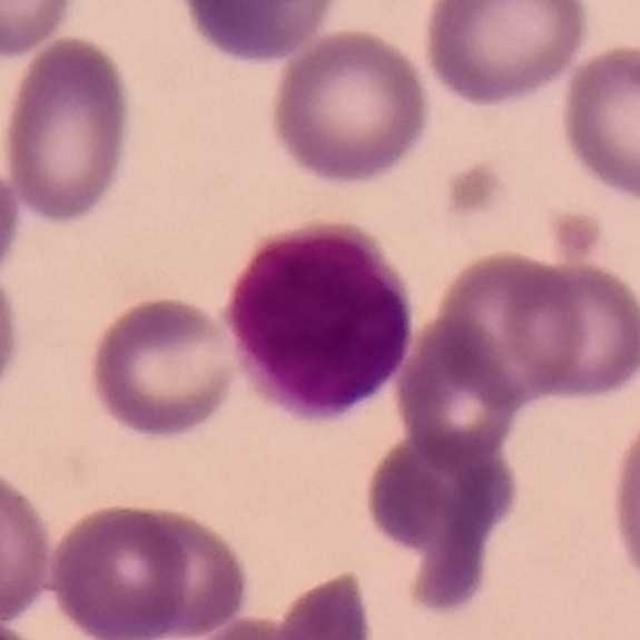Lymphocyte: (219, 215, 420, 427)
Platelets: (434, 154, 506, 228), (546, 206, 612, 262)
RBC: (422, 244, 599, 412), (264, 24, 436, 190), (0, 31, 139, 228), (84, 291, 242, 444), (358, 426, 522, 571), (44, 497, 203, 640), (394, 311, 528, 474), (500, 252, 639, 408), (418, 0, 596, 110), (114, 504, 253, 639), (554, 39, 640, 205), (172, 0, 346, 68), (0, 461, 58, 628), (270, 565, 378, 640), (603, 397, 640, 609), (0, 0, 83, 61), (0, 250, 26, 418), (186, 612, 329, 640), (0, 144, 24, 296), (0, 611, 55, 640)
